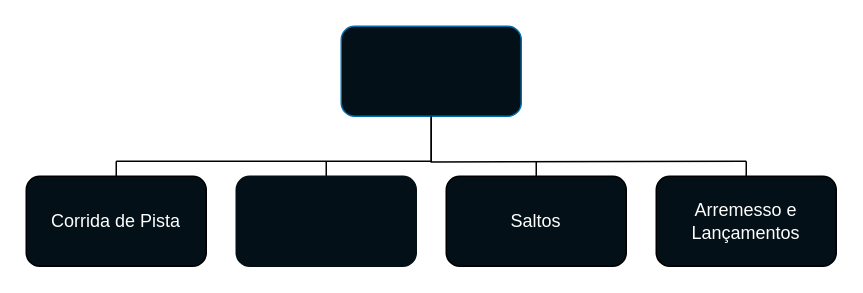
The diagram is 863 pixels wide and 293 high, and some of its shapes have lost their labels. Here are the shapes that lost their labels. From the top down, the box of each, then its label:
(340, 25, 521, 116): Main
(235, 175, 416, 266): Marcha atlética
